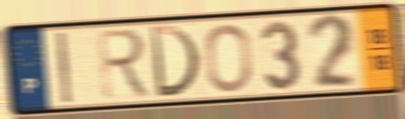2: (305, 13, 363, 93)
3: (258, 17, 302, 94)
D: (147, 24, 203, 100)
I: (54, 30, 74, 106)
O: (203, 22, 255, 95)
R: (94, 26, 154, 101)
